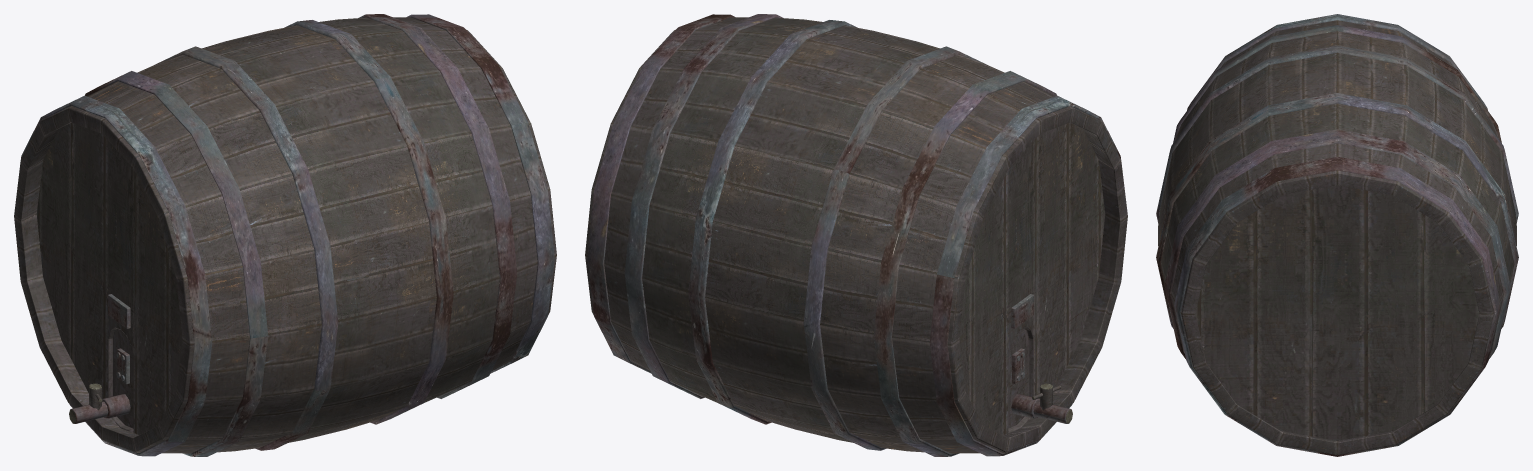
Rendered from WineTong.fbx.
3 renders of one model, left to right at view 1: azimuth 30°, elevation 25°; view 2: azimuth 150°, elevation 25°; view 3: azimuth 270°, elevation 25°, orthographic. The views are drawn at different scales.
Parts seen in each view (by area): view 1: SM_WineCaskB_LOD0; view 2: SM_WineCaskB_LOD0; view 3: SM_WineCaskB_LOD0.
Part boxes in pixels (x1,y1,x2,y2): SM_WineCaskB_LOD0: (14,14,556,456); SM_WineCaskB_LOD0: (585,14,1127,456); SM_WineCaskB_LOD0: (1156,14,1518,456).
Bounding box in the file's own units: 110 × 98.95 × 98.95.
